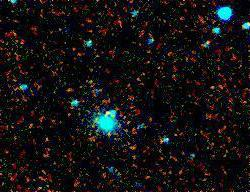star: (94, 97, 124, 127)
